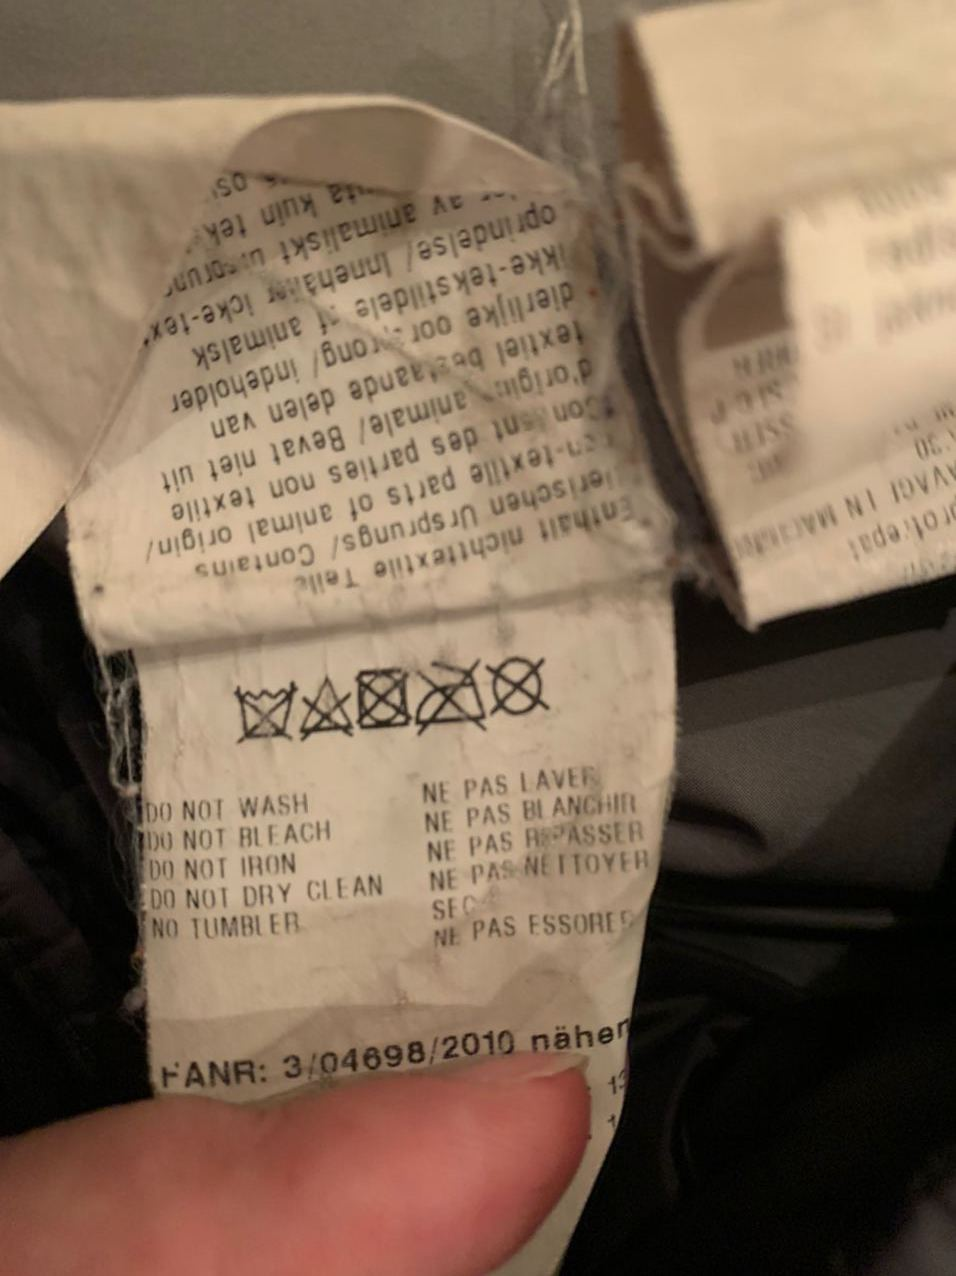do_not_bleach: (298, 673, 354, 741)
do_not_dry_clean: (483, 648, 550, 724)
do_not_iron: (412, 655, 488, 735)
do_not_tumble_drying: (351, 664, 415, 735)
do_not_wash: (231, 676, 302, 744)
